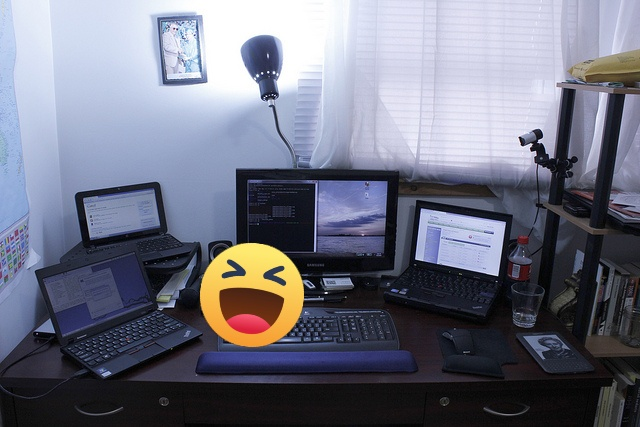haha: (200, 243, 304, 347)
